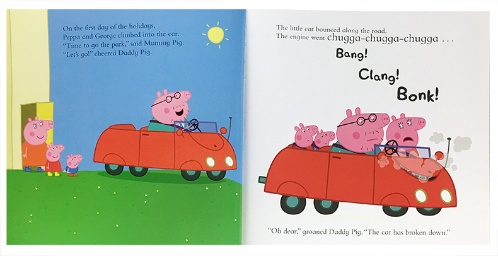Peppa: (42, 141, 65, 180), (292, 121, 318, 152)
